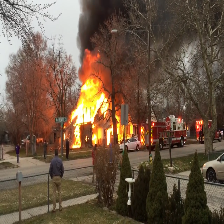fire: (72, 73, 109, 131)
smoke: (82, 5, 103, 30)
